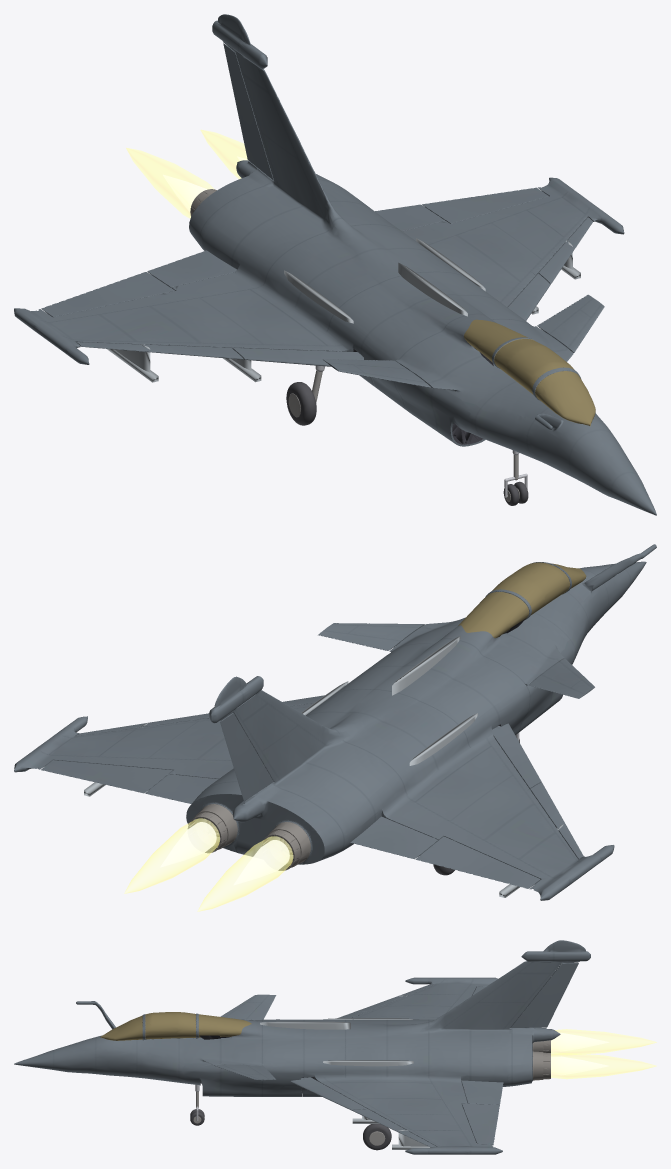
File: rafale.glb
3 renders of one model, top to bottom at view 1: azimuth 30°, elevation 25°; view 2: azimuth 150°, elevation 25°; view 3: azimuth 270°, elevation 25°, orthographic. The views are drawn at different scales.
Parts seen in each view (by area): view 1: fsim:section:nose, fsim:section:tail, fsim:section:centre, fsim:section:right-wing, fsim:section:left-wing, fsim:lef@-2,25 (×4), fsim:elevator+aileron:-1+speedbrake:-0.349066@-25,25 (×2), fsim:elevator+speedbrake:0.349066@-20,50 (×2), fsim:elevator+aileron:1+speedbrake:-0.349066@-25,25 (×2), fsim:afterburner:1, fsim:rudder, fsim:wheel:2:0.38 (+4 smaller); view 2: fsim:section:tail, fsim:section:centre, fsim:section:right-wing, fsim:section:nose, fsim:section:left-wing, fsim:elevator+aileron:-1+speedbrake:-0.349066@-25,25 (×2), fsim:elevator+aileron:1+speedbrake:-0.349066@-25,25 (×2), fsim:elevator+speedbrake:0.349066@-20,50 (×2), fsim:afterburner:1, fsim:afterburner:0, fsim:lef@-2,25 (×3), fsim:rudder (+2 smaller); view 3: fsim:section:tail, fsim:section:nose, fsim:section:centre, fsim:section:left-wing, fsim:section:right-wing, fsim:elevator+aileron:1+speedbrake:-0.349066@-25,25 (×2), fsim:afterburner:0, fsim:afterburner:1, fsim:rudder, fsim:elevator+speedbrake:0.349066@-20,50 (×2), fsim:lef@-2,25 (×2), fsim:station:7 (+3 smaller).
Boxes of the visible parts, x1,y1,x2,y2 form: fsim:section:nose: (395,320,656,515); fsim:section:tail: (14,14,623,364); fsim:section:centre: (82,231,624,442); fsim:section:right-wing: (18,268,349,351); fsim:section:left-wing: (402,178,602,307); fsim:lef@-2,25 (×4): (76,217,592,366); fsim:elevator+aileron:-1+speedbrake:-0.349066@-25,25 (×2): (41,250,236,317); fsim:elevator+speedbrake:0.349066@-20,50 (×2): (323,294,604,387); fsim:elevator+aileron:1+speedbrake:-0.349066@-25,25 (×2): (375,187,548,231); fsim:afterburner:1: (126,148,213,218); fsim:rudder: (223,43,273,180); fsim:wheel:2:0.38: (286,382,316,425); fsim:section:tail: (14,676,614,900); fsim:section:centre: (87,592,614,846); fsim:section:right-wing: (382,732,595,892); fsim:section:nose: (389,544,656,707); fsim:section:left-wing: (18,703,313,778); fsim:elevator+aileron:-1+speedbrake:-0.349066@-25,25 (×2): (350,816,540,888); fsim:elevator+aileron:1+speedbrake:-0.349066@-25,25 (×2): (41,760,218,803); fsim:elevator+speedbrake:0.349066@-20,50 (×2): (318,623,594,698); fsim:afterburner:1: (197,836,293,911); fsim:afterburner:0: (124,818,219,893); fsim:lef@-2,25 (×3): (76,713,583,859); fsim:rudder: (220,713,273,801); fsim:section:tail: (393,940,590,1154); fsim:section:nose: (14,1001,268,1096); fsim:section:centre: (200,980,421,1152); fsim:section:left-wing: (316,1076,494,1149); fsim:section:right-wing: (351,977,494,1019); fsim:elevator+aileron:1+speedbrake:-0.349066@-25,25 (×2): (461,1080,503,1144); fsim:afterburner:0: (551,1053,656,1079); fsim:afterburner:1: (551,1029,656,1055); fsim:rudder: (510,963,578,1027); fsim:elevator+speedbrake:0.349066@-20,50 (×2): (215,994,276,1080); fsim:lef@-2,25 (×2): (290,1077,436,1147); fsim:station:7: (260,1021,350,1029).
Bounding box in the file's own units: 10.84 × 5.39 × 16.99.
Materials: 13 (1 with a texture image).
